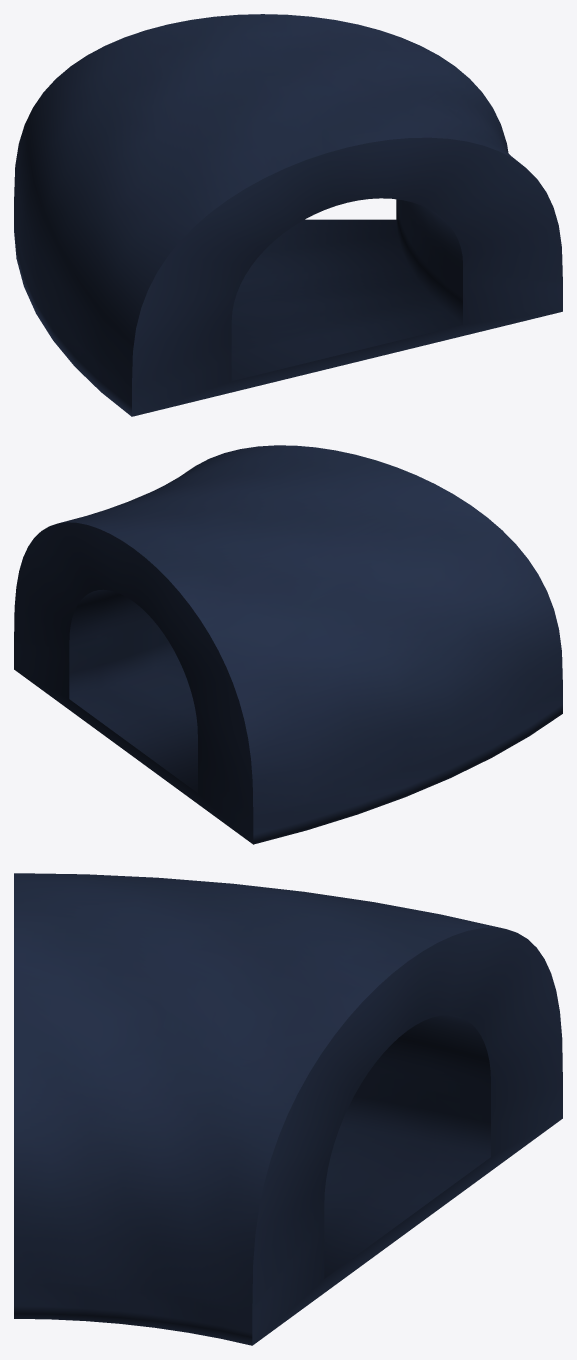
Rendered from curve_right_30_terrain_lod1.glb.
The picture shows the model from 3 angles, top to bottom: view 1: azimuth 30°, elevation 25°; view 2: azimuth 150°, elevation 25°; view 3: azimuth 270°, elevation 25°; orthographic projection. The views are drawn at different scales.
Visible parts, largest first — view 1: TerrainRoof.009; view 2: TerrainRoof.009; view 3: TerrainRoof.009.
Part boxes in pixels (x1,y1,x2,y2): TerrainRoof.009: (14,14,562,416); TerrainRoof.009: (14,445,562,844); TerrainRoof.009: (14,873,562,1345).
Size of the model in its own units: 31.32 by 13.65 by 25.1.
